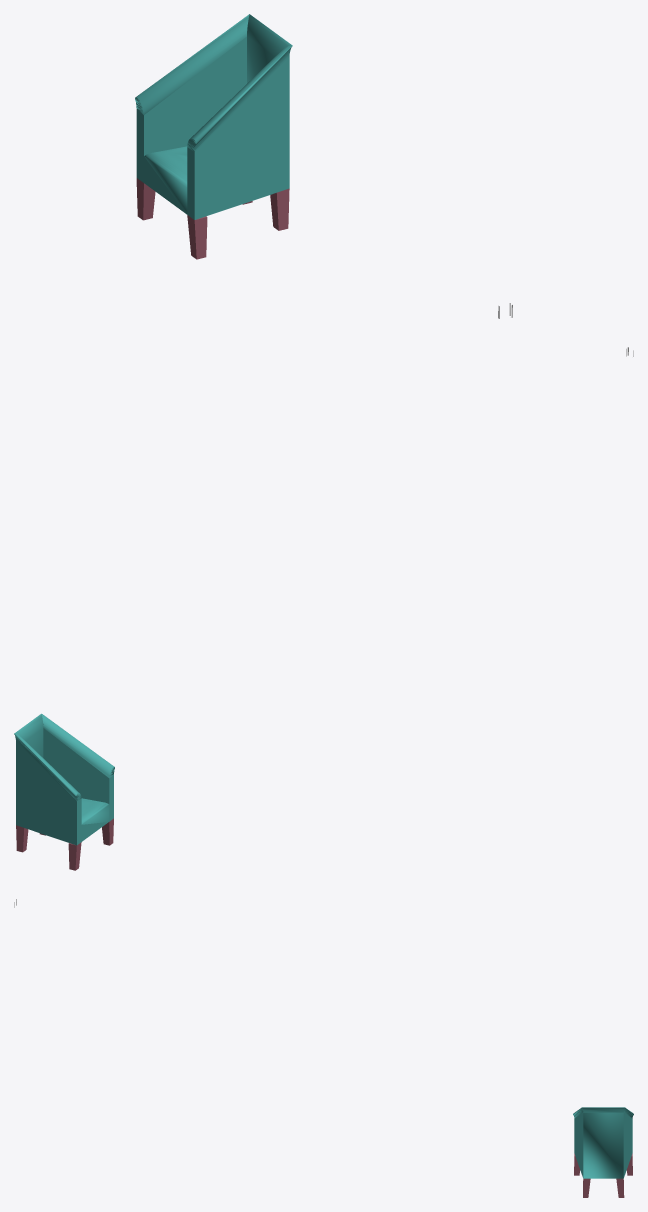
File: whiteChair.glb
3 renders of one model, top to bottom at view 1: azimuth 30°, elevation 25°; view 2: azimuth 150°, elevation 25°; view 3: azimuth 270°, elevation 25°, orthographic. The views are drawn at different scales.
Parts seen in each view (by area): view 1: Mesh245__5d334a72_f340_0941_bf50_ab4a0d2c6cb2__0, Mesh246__24842ec5_ab1d_4a41_8944_b3e3d7677ac8__0; view 2: Mesh245__5d334a72_f340_0941_bf50_ab4a0d2c6cb2__0, Mesh246__24842ec5_ab1d_4a41_8944_b3e3d7677ac8__0; view 3: Mesh245__5d334a72_f340_0941_bf50_ab4a0d2c6cb2__0, Mesh246__24842ec5_ab1d_4a41_8944_b3e3d7677ac8__0.
Boxes of the visible parts, box(x1,y1,x2,y2) form: Mesh245__5d334a72_f340_0941_bf50_ab4a0d2c6cb2__0: box(135, 14, 292, 219); Mesh246__24842ec5_ab1d_4a41_8944_b3e3d7677ac8__0: box(136, 178, 289, 259); Mesh245__5d334a72_f340_0941_bf50_ab4a0d2c6cb2__0: box(14, 713, 114, 845); Mesh246__24842ec5_ab1d_4a41_8944_b3e3d7677ac8__0: box(16, 818, 113, 870); Mesh245__5d334a72_f340_0941_bf50_ab4a0d2c6cb2__0: box(573, 1107, 633, 1178); Mesh246__24842ec5_ab1d_4a41_8944_b3e3d7677ac8__0: box(574, 1153, 632, 1197).
Bounding box in the file's own units: 76.12 × 85.74 × 227.
